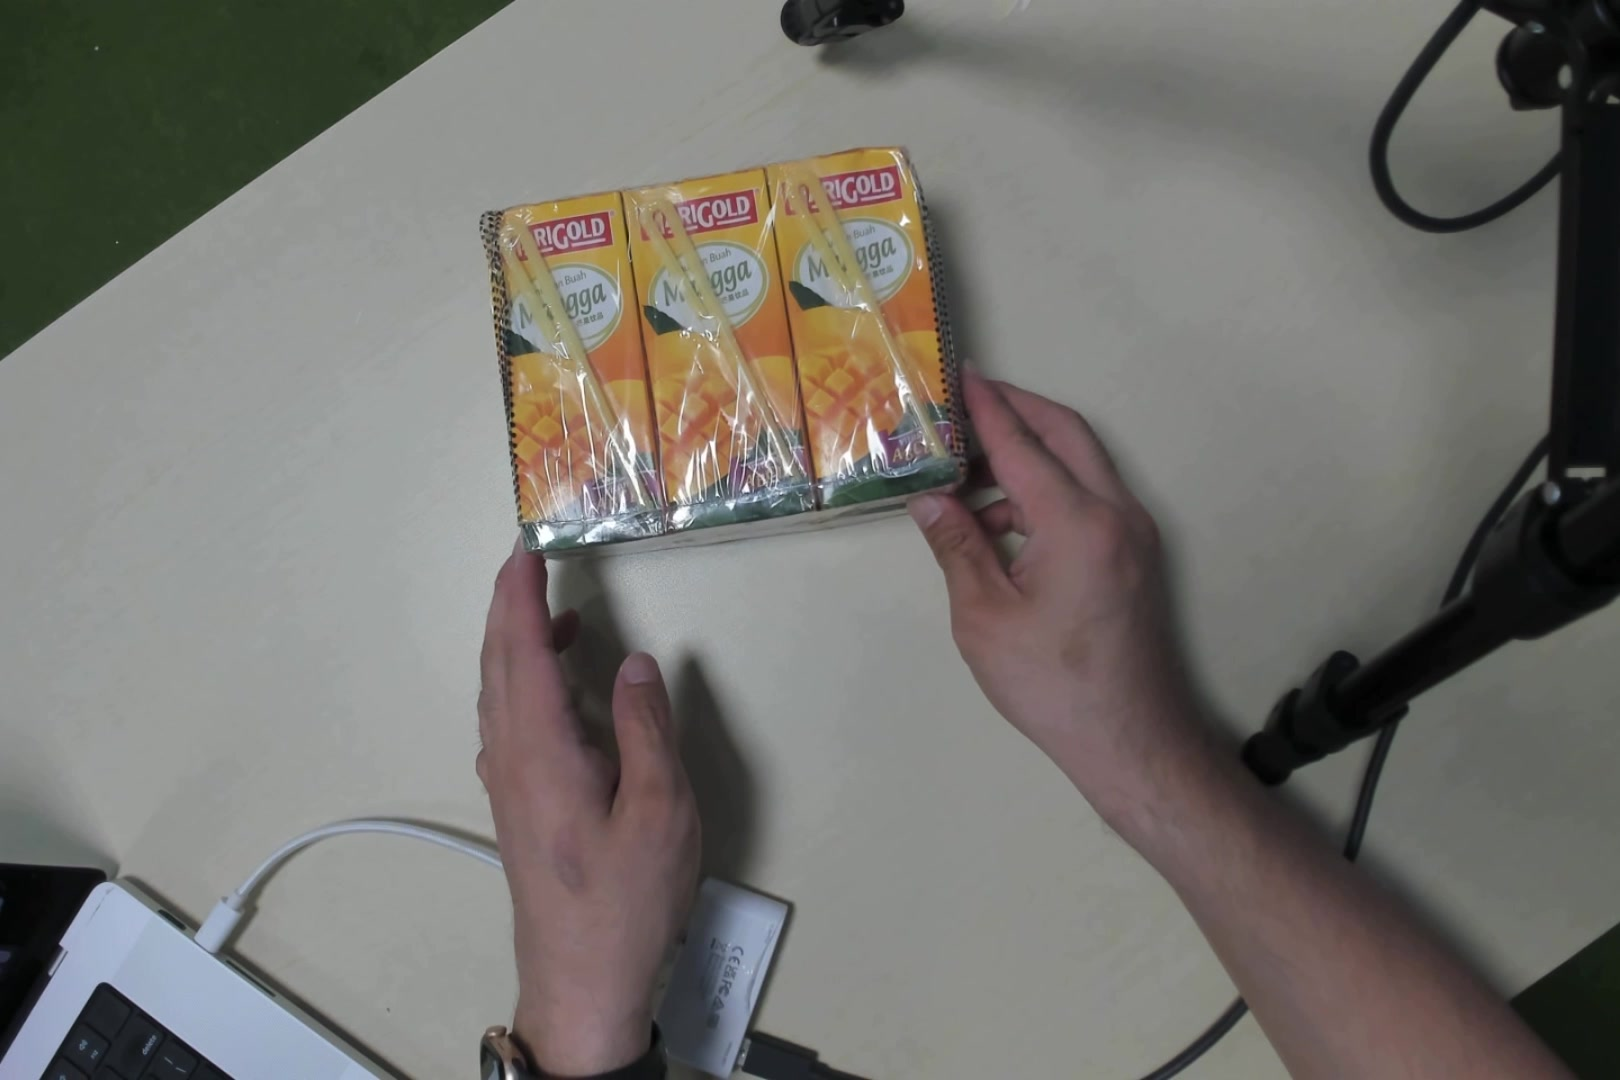FruitJuice_700-799g_Halal_NonHealthy: (501, 160, 958, 517)
